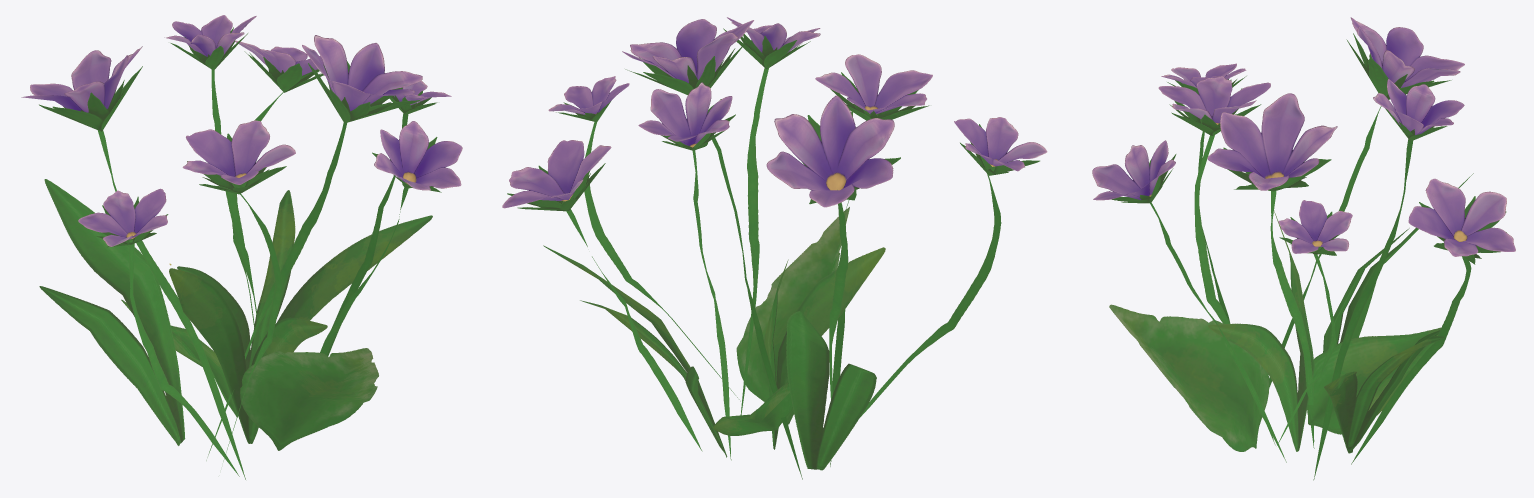
The model's file is MSH_fwOF_Flowers_03_C.fbx.
3 renders of one model, left to right at view 1: azimuth 30°, elevation 25°; view 2: azimuth 150°, elevation 25°; view 3: azimuth 270°, elevation 25°, orthographic. The views are drawn at different scales.
Visible parts, largest first — view 1: MSH_fwOF_Flowers_03_C; view 2: MSH_fwOF_Flowers_03_C; view 3: MSH_fwOF_Flowers_03_C.
Part boxes in pixels (x1,y1,x2,y2): MSH_fwOF_Flowers_03_C: (21, 15, 462, 479); MSH_fwOF_Flowers_03_C: (502, 17, 1047, 479); MSH_fwOF_Flowers_03_C: (1092, 17, 1515, 480).
Bounding box in the file's own units: 0.3862 × 0.365 × 0.3565.
